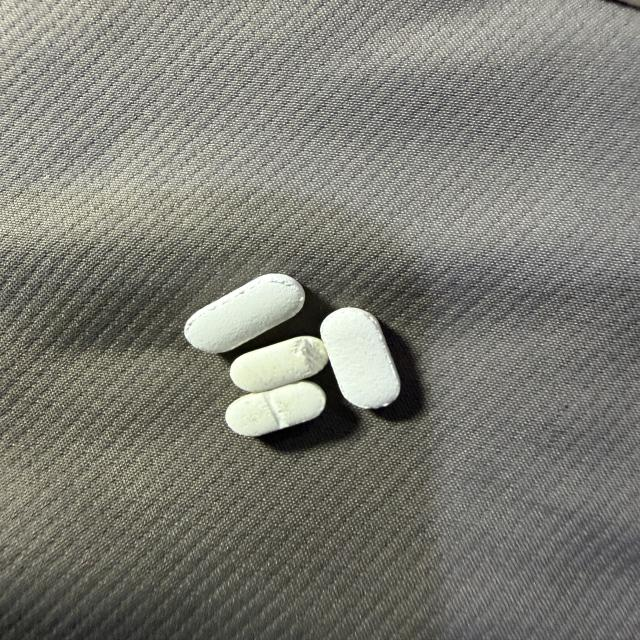pill: (185, 274, 304, 353), (321, 308, 400, 408), (230, 336, 328, 392), (226, 381, 325, 436)
